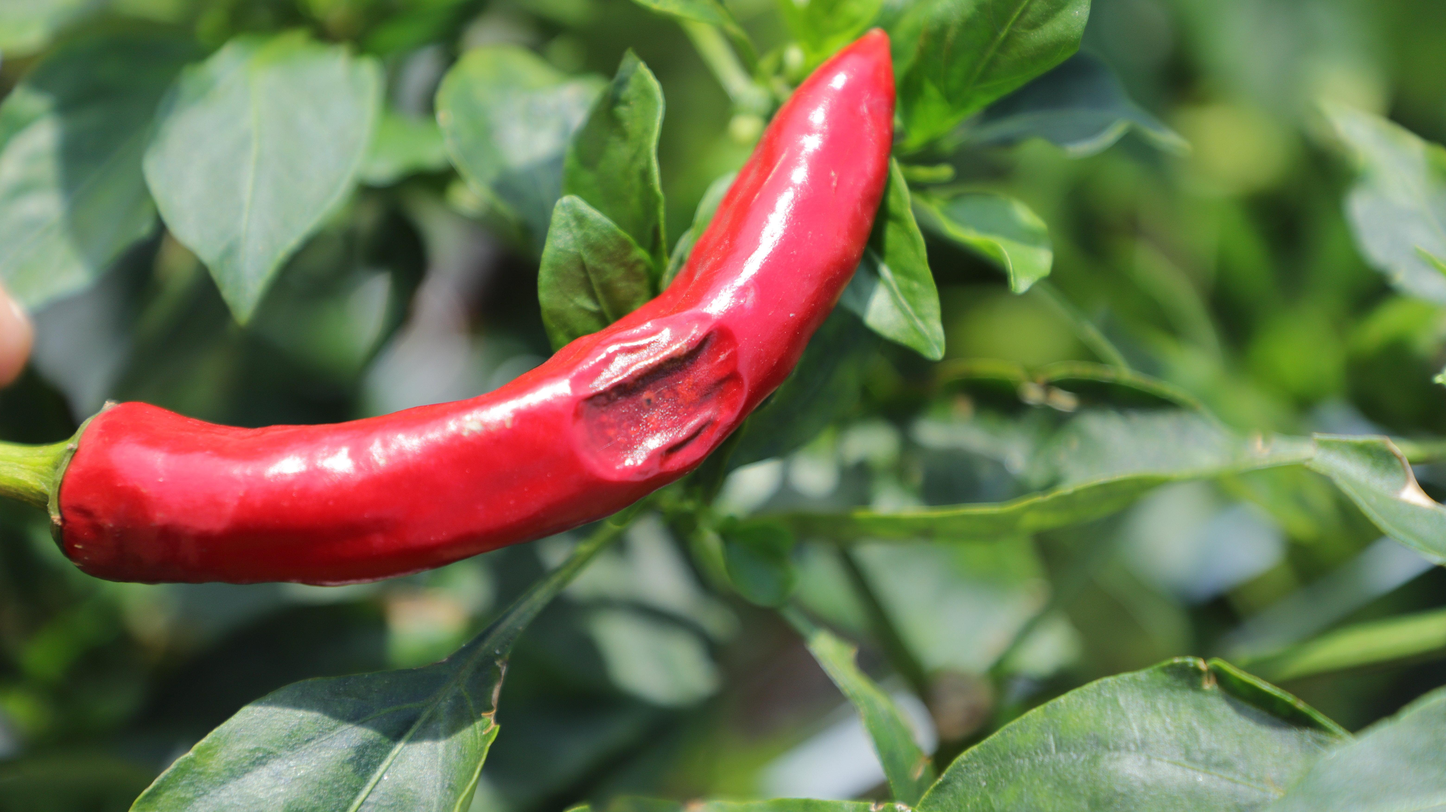Busuk Buah Antraknosa: (13, 25, 901, 590)
